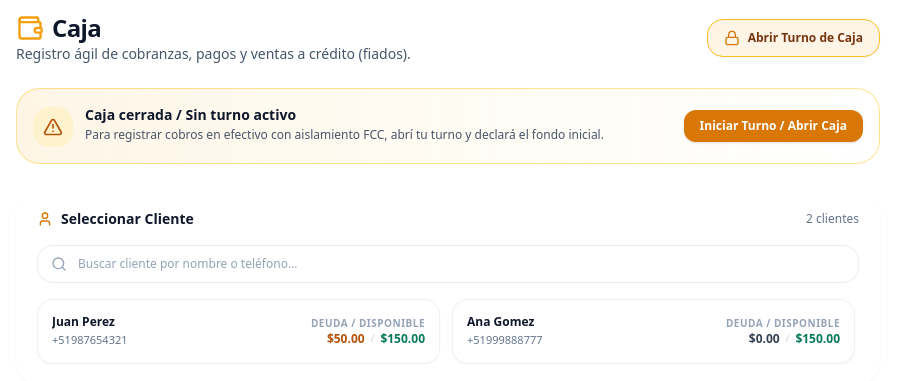
it: PosPage Component (Strict TDD) › Customer Search and Selection › filters customer list based on search query
This screenshot has width=897, height=381.
Expected: the text "Juan Perez" is shown, top-left (52, 313), bottom-right (115, 330)
Step 1. Type "Ana" into the field with placeholder "Buscar cliente por nombre o teléfono..." → (448, 264), box top-left (37, 245), bottom-right (859, 283)
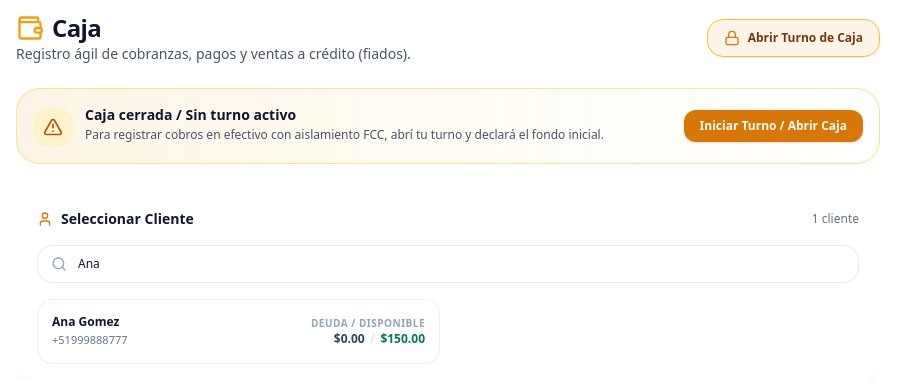
Expected: the text "Ana Gomez" is shown, top-left (52, 314), bottom-right (128, 330)
Now the button "Juan Perez" is gone
